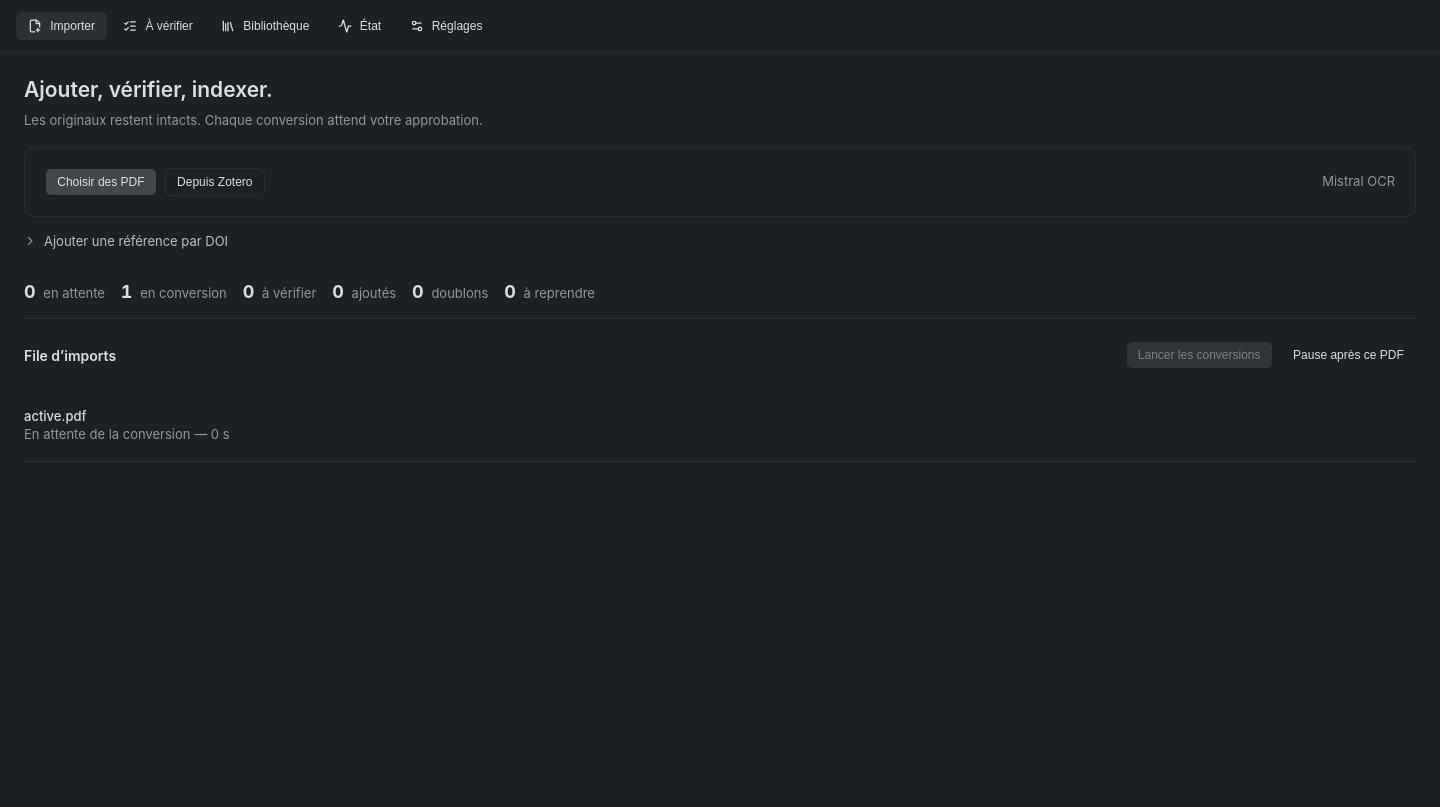
Test: keeps unknown status on a failed index check and marks existing queue entries
Click the button "Depuis Zotero" at coordinates (215, 182), box [165, 168, 265, 196]
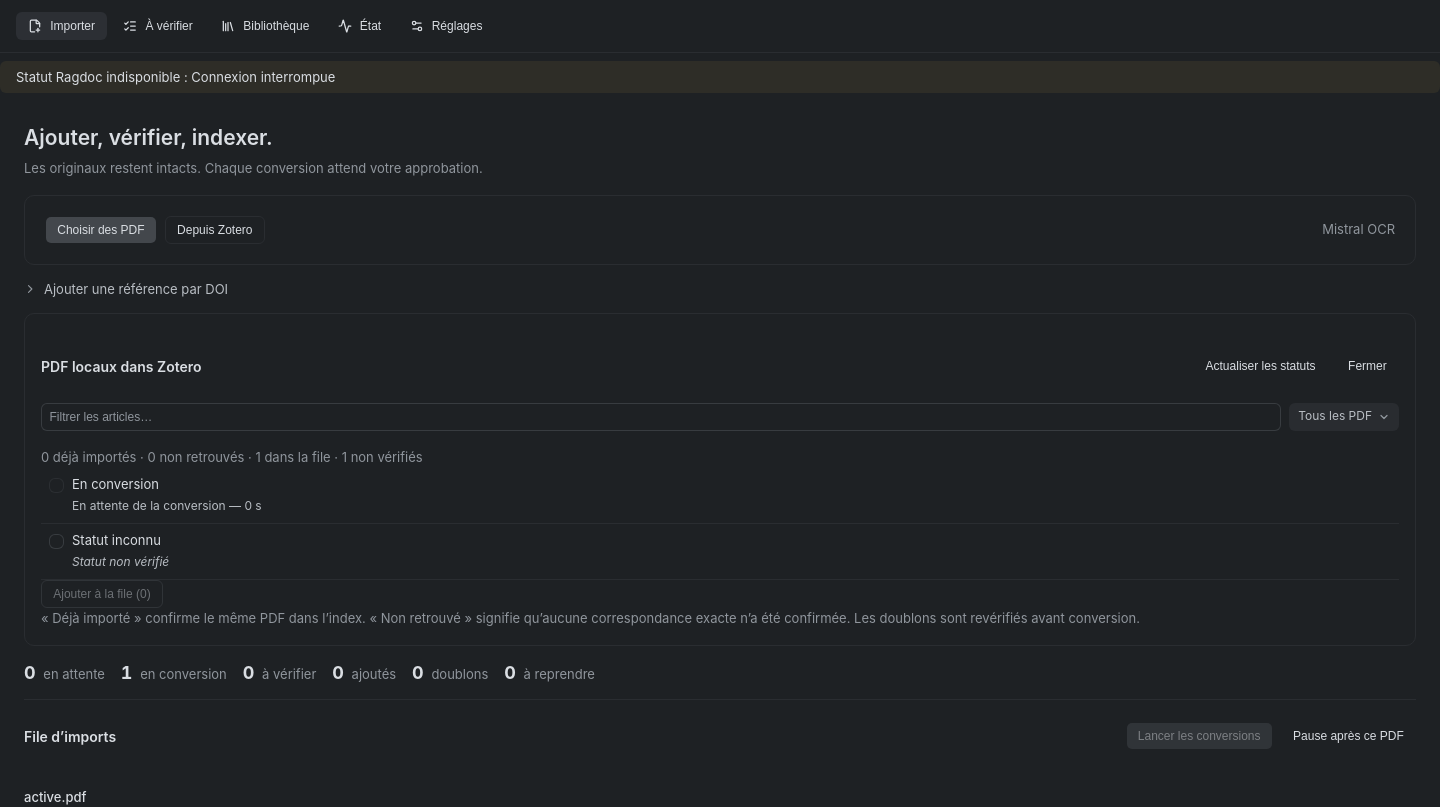
Now the text "Statut Ragdoc indisponible : Connexion interrompue" is shown, box [0, 61, 1439, 93]
Now the checkbox named "Statut inconnu" next to "Statut inconnu" is enabled, box [49, 534, 64, 549]
